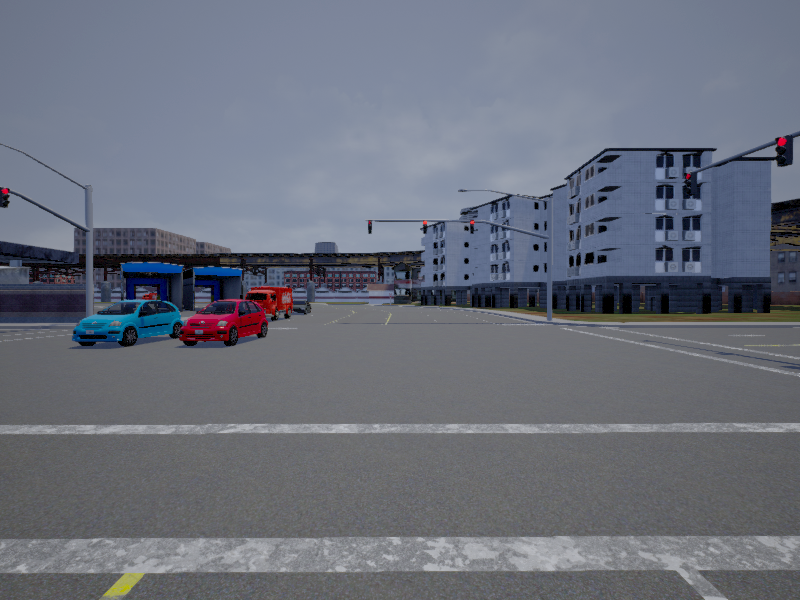Benign: (72, 299, 184, 342), (183, 300, 268, 345), (244, 289, 292, 319), (292, 299, 313, 315)
